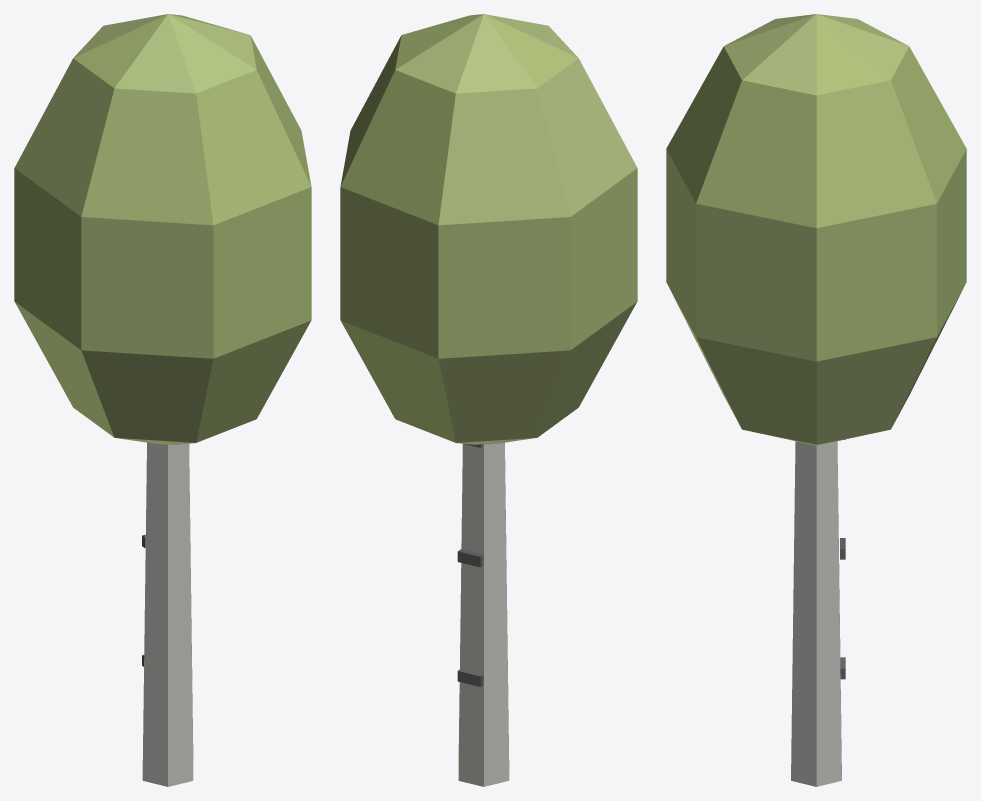
File: birch.glb
The picture shows the model from 3 angles, left to right: view 1: azimuth 30°, elevation 25°; view 2: azimuth 150°, elevation 25°; view 3: azimuth 270°, elevation 25°; orthographic projection.
Parts seen in each view (by area): view 1: birch2; view 2: birch2; view 3: birch2.
Part boxes in pixels (left/top/right/bottom): birch2: left=14, top=14, right=311, bottom=786; birch2: left=340, top=14, right=637, bottom=786; birch2: left=666, top=14, right=966, bottom=786.
Size of the model in its own units: 2 by 5.72 by 2.05.
